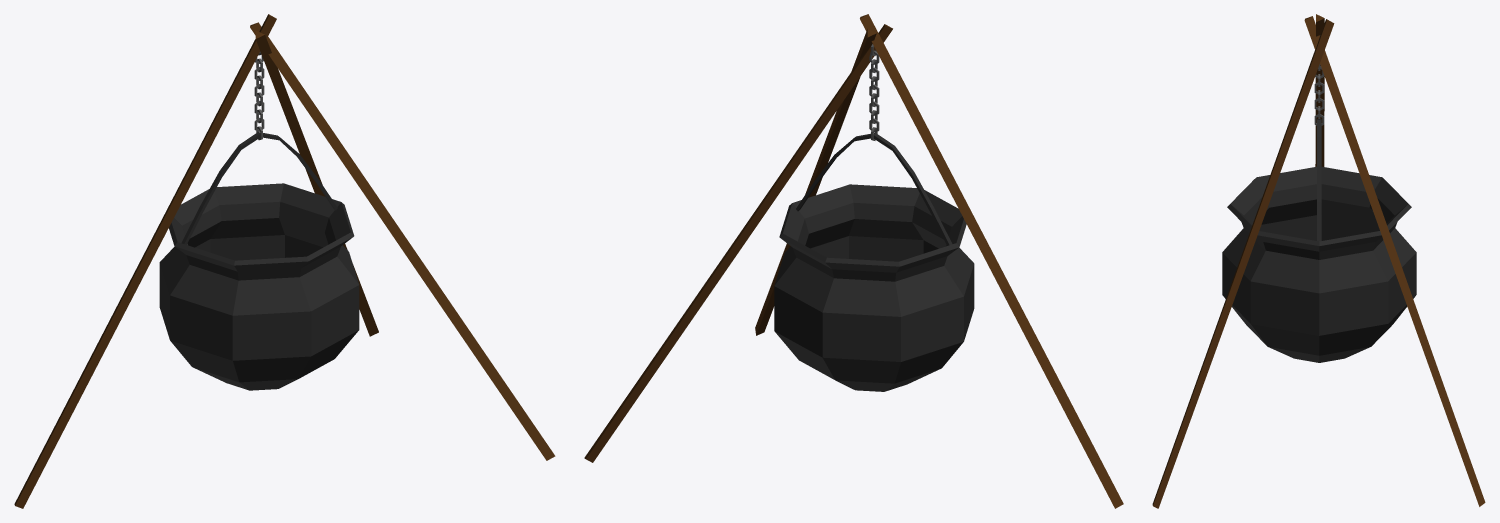
Rendered from MageHunter - Cauldron.fbx.
The picture shows the model from 3 angles, left to right: view 1: azimuth 30°, elevation 25°; view 2: azimuth 150°, elevation 25°; view 3: azimuth 270°, elevation 25°; orthographic projection. The views are drawn at different scales.
Visible parts, largest first — view 1: Circle, Circle.001, Circle.002, Circle.003, Cube, Circle.004; view 2: Circle, Circle.001, Circle.003, Circle.002, Cube, Circle.004; view 3: Circle, Circle.002, Circle.003, Circle.001, Cube, Circle.004.
Boxes of the visible parts, x1,y1,x2,y2 form: Circle: [159, 183, 359, 390]; Circle.001: [14, 14, 276, 508]; Circle.002: [250, 22, 555, 460]; Circle.003: [255, 30, 378, 336]; Cube: [181, 132, 337, 244]; Circle.004: [254, 51, 264, 140]; Circle: [774, 184, 974, 391]; Circle.001: [860, 14, 1123, 508]; Circle.003: [584, 24, 892, 462]; Circle.002: [755, 29, 876, 335]; Cube: [796, 133, 952, 245]; Circle.004: [869, 44, 879, 140]; Circle: [1222, 166, 1416, 362]; Circle.002: [1152, 19, 1334, 508]; Circle.003: [1304, 16, 1485, 506]; Circle.001: [1315, 14, 1324, 166]; Cube: [1317, 119, 1321, 241]; Circle.004: [1314, 35, 1324, 125].
Bounding box in the file's own units: 508 × 462 × 342.
